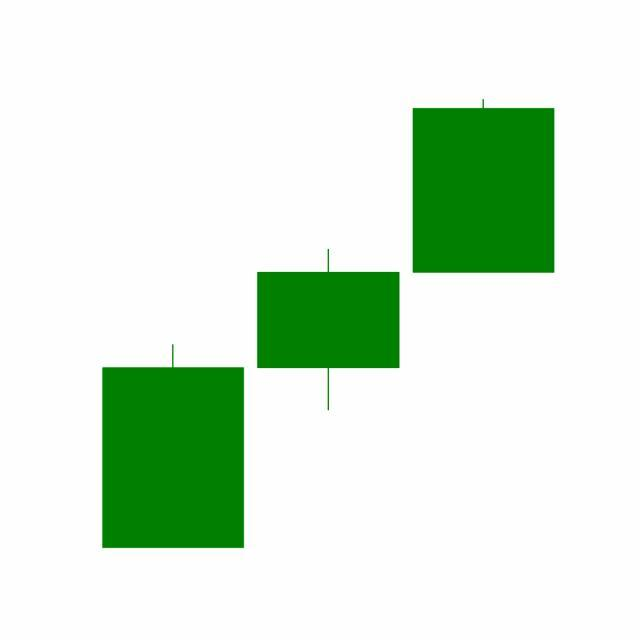Marubozu: (406, 98, 562, 276)
